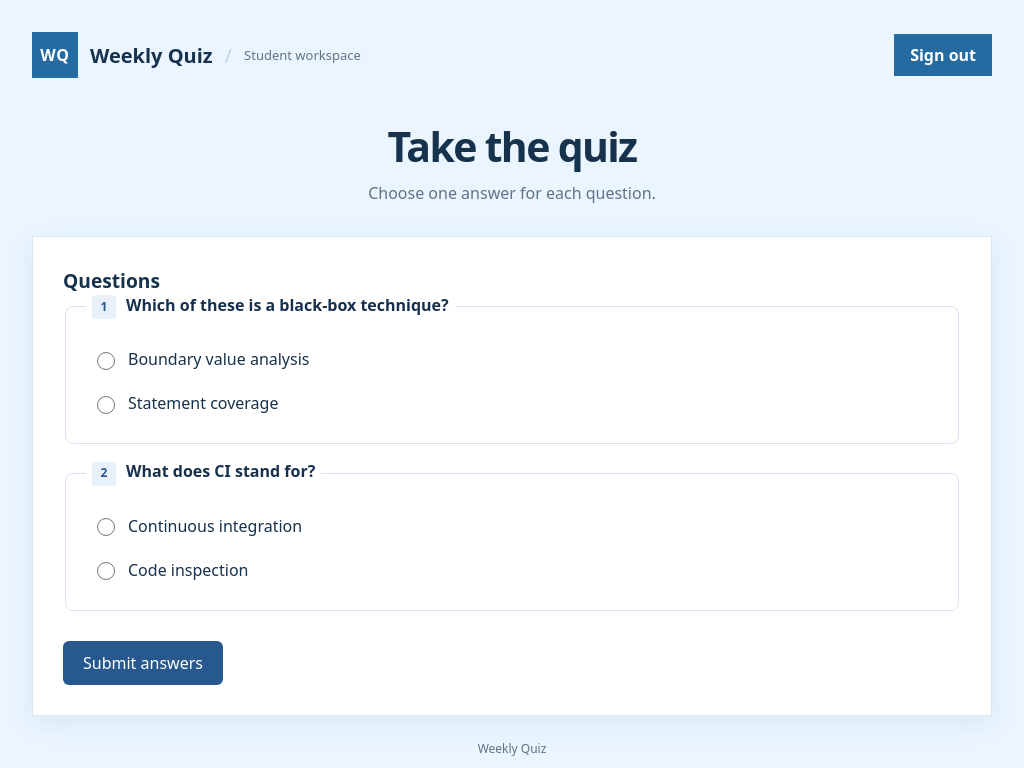
Scenario: submits the selected options and shows the score
Click the radio button labelled "Boundary value analysis". click: [106, 361]
box: [97,352,115,370]
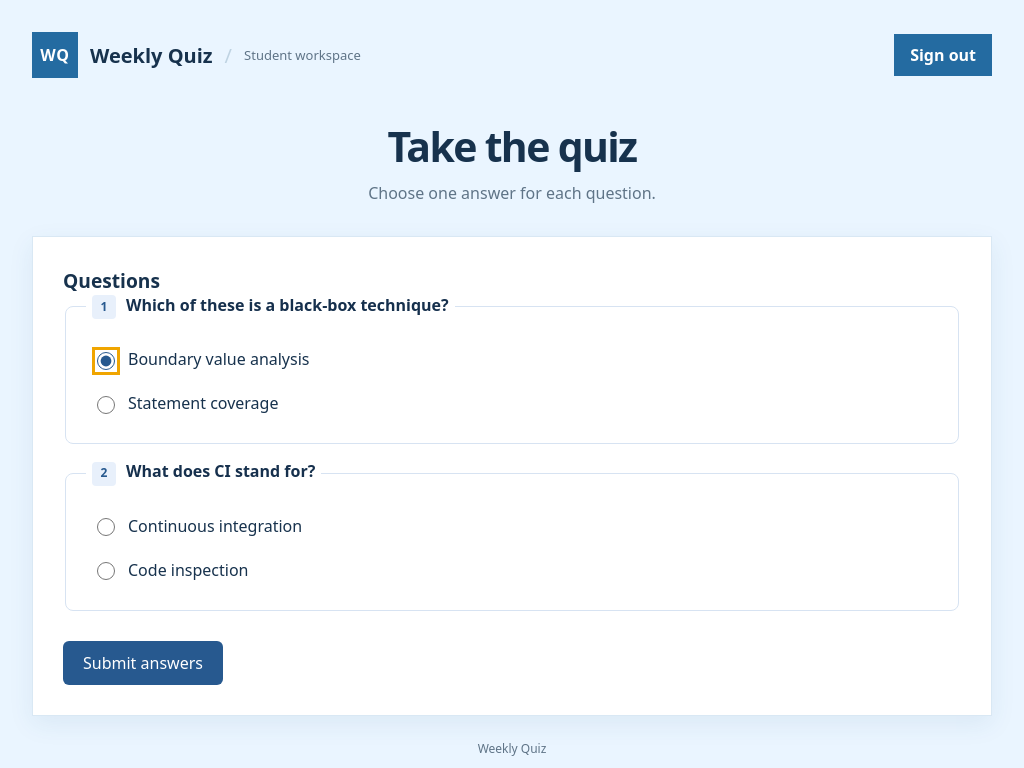
Click the radio button labelled "Code inspection". click: [106, 571]
box: [97,562,115,580]
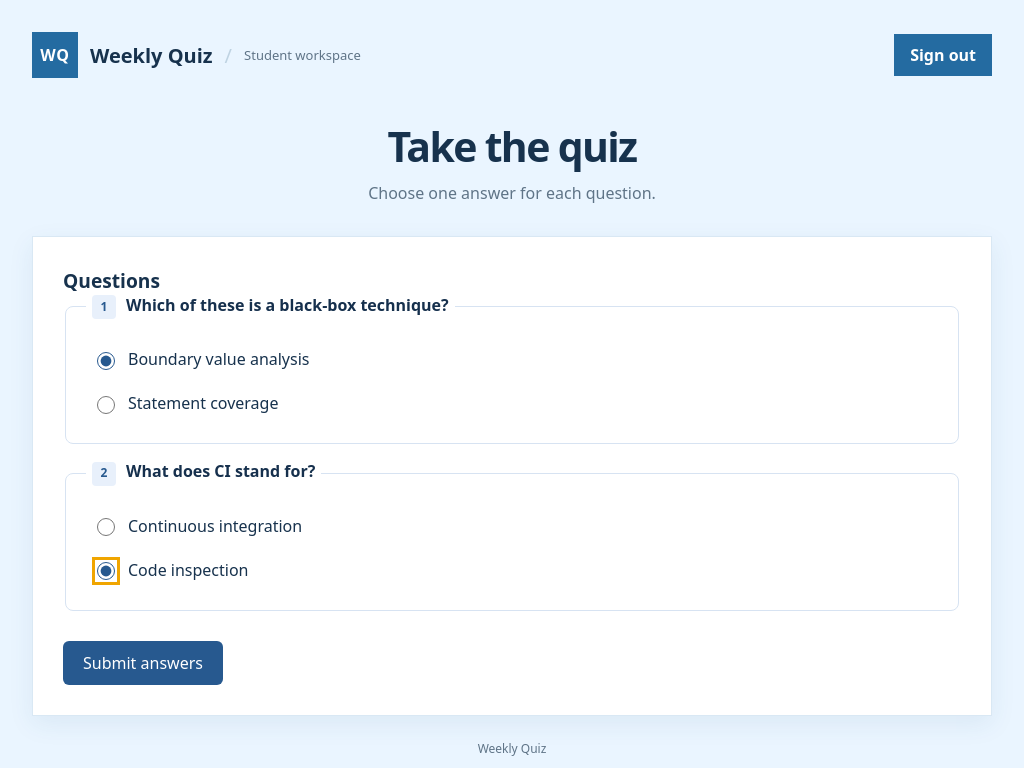
Click the button "Submit answers". click: [143, 663]
box: [63,641,223,685]
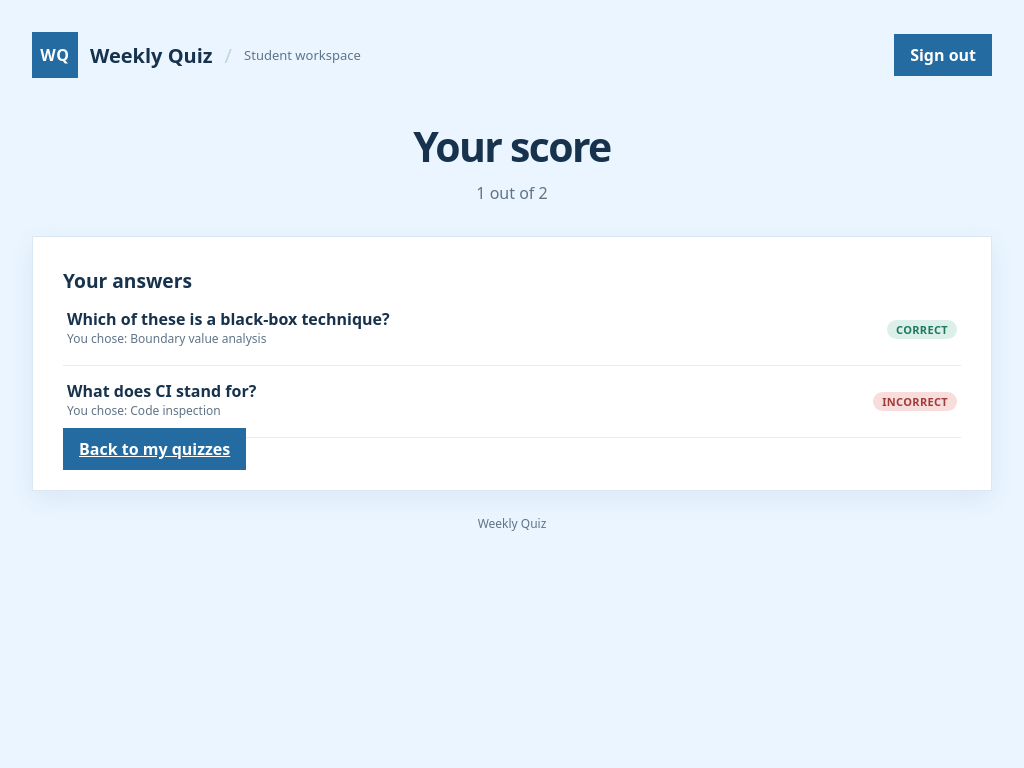
Expected: the heading "Your score" is shown, [413,118,611,174]
Expected: the text "1 out of 2" is shown, [476,182,548,204]
